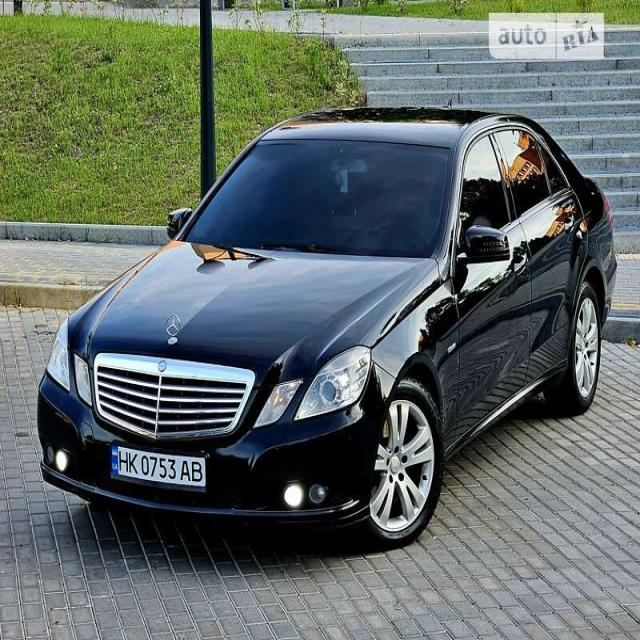plate: (101, 439, 214, 500)
